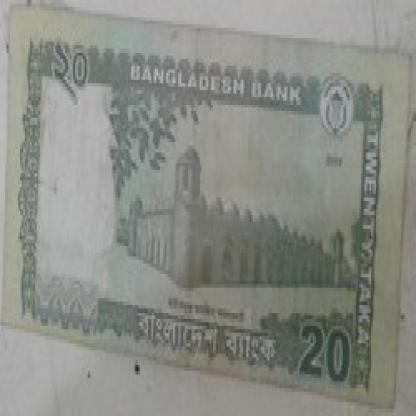Twenty: (292, 298, 354, 399), (43, 31, 95, 118)
